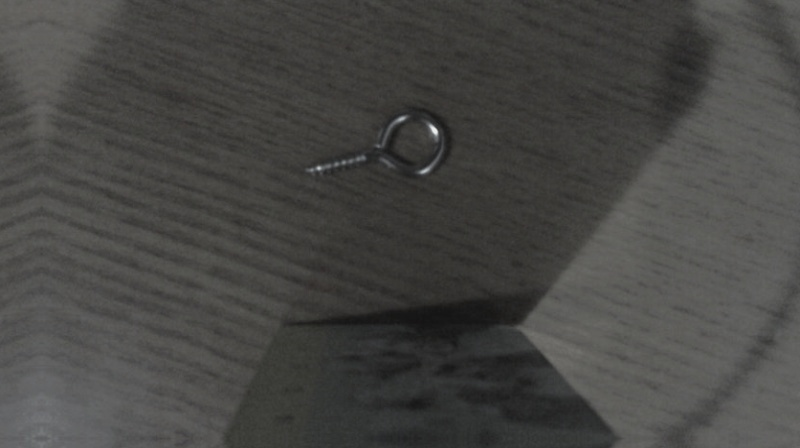O001: (297, 104, 452, 187)
